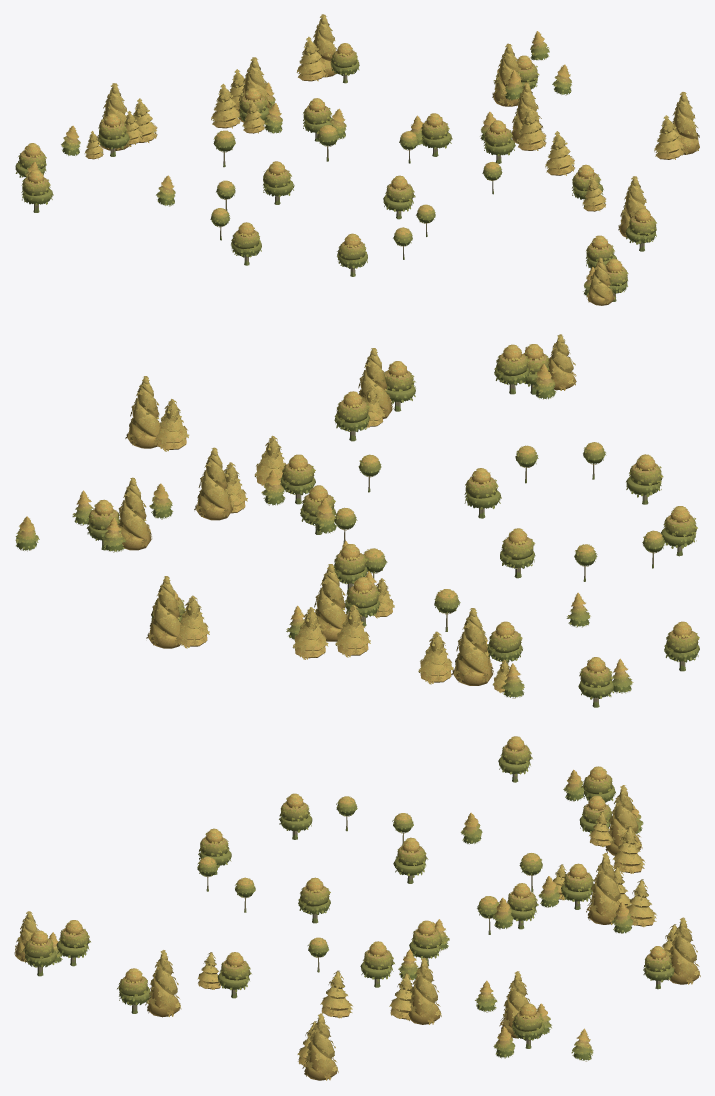
The model's file is pref_sm_garden_tree_vertexcolor_04_lv2.fbx.
3 views of the same model, one above another, from view 1: azimuth 30°, elevation 25°; view 2: azimuth 150°, elevation 25°; view 3: azimuth 270°, elevation 25° (orthographic). The views are drawn at different scales.
Visible parts, largest first — view 1: pref_sm_garden_tree_vertexcolor_04_lv2; view 2: pref_sm_garden_tree_vertexcolor_04_lv2; view 3: pref_sm_garden_tree_vertexcolor_04_lv2.
Boxes of the visible parts, <box> form: pref_sm_garden_tree_vertexcolor_04_lv2: <box>15,14,699,305</box>; pref_sm_garden_tree_vertexcolor_04_lv2: <box>15,334,699,707</box>; pref_sm_garden_tree_vertexcolor_04_lv2: <box>14,736,700,1080</box>.
Bounding box in the file's own units: 52.26 × 6.08 × 50.16.
